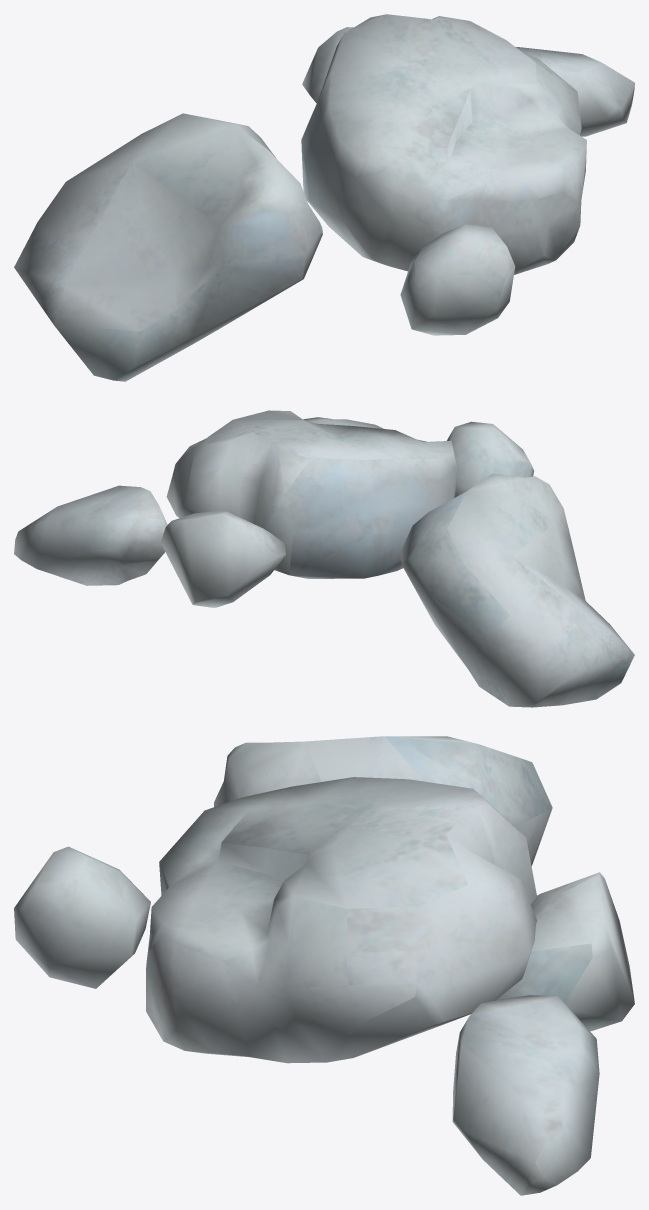
The model's file is P_RockDesert_Clump03.obj.
3 renders of one model, top to bottom at view 1: azimuth 30°, elevation 25°; view 2: azimuth 150°, elevation 25°; view 3: azimuth 270°, elevation 25°, orthographic. The views are drawn at different scales.
Size of the model in its own units: 3.53 by 1.33 by 2.33.
